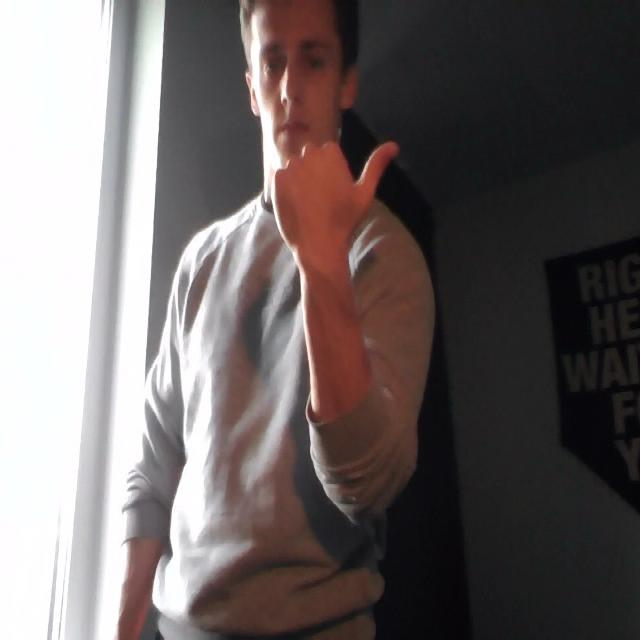right: (264, 107, 414, 278)
